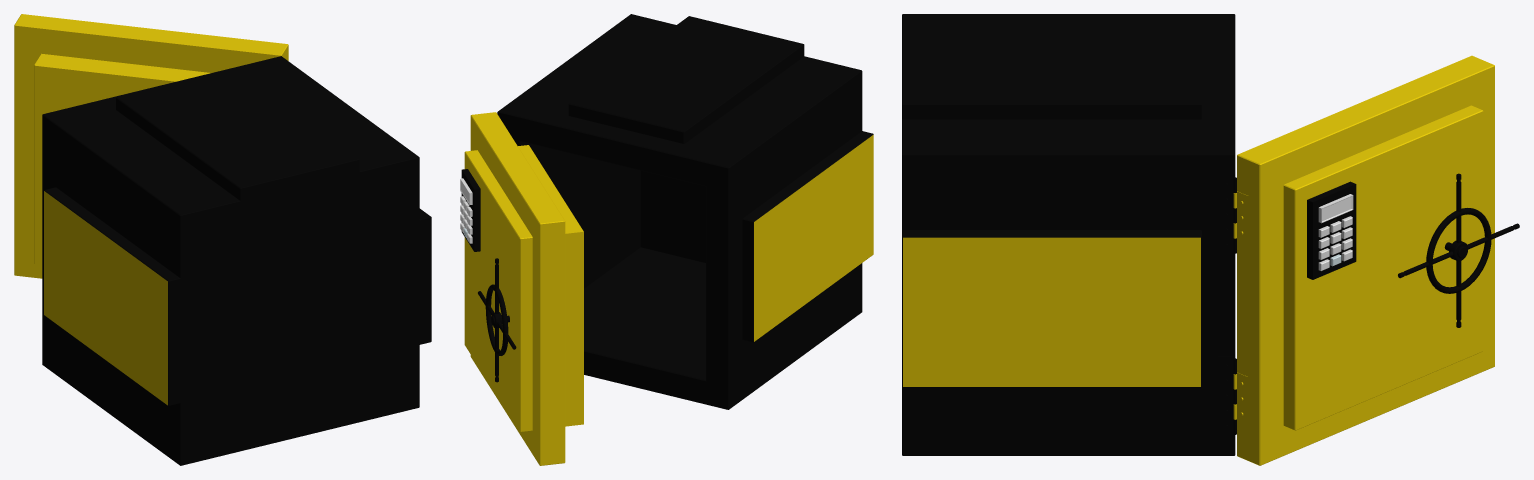
Rendered from PetesTVSafe.fbx.
3 views of the same model, side by side, from view 1: azimuth 30°, elevation 25°; view 2: azimuth 150°, elevation 25°; view 3: azimuth 270°, elevation 25° (orthographic). The views are drawn at different scales.
Visible parts, largest first — view 1: Box, Door, Box.001; view 2: Box, Door, Box.001, Lock, Password.013; view 3: Box, Door, Box.001, Lock, Password.013, Password.
Part boxes in pixels (box(x1,y1,x2,y2)): Box: box(42, 56, 431, 465); Door: box(14, 14, 288, 278); Box.001: box(44, 191, 167, 405); Box: box(497, 14, 873, 409); Door: box(464, 112, 583, 465); Box.001: box(754, 135, 873, 341); Lock: box(478, 258, 516, 382); Password.013: box(461, 169, 480, 251); Box: box(902, 14, 1236, 455); Door: box(1233, 55, 1494, 465); Box.001: box(903, 237, 1200, 386); Lock: box(1398, 173, 1519, 327); Password.013: box(1307, 181, 1356, 279); Password: box(1318, 194, 1353, 223).
Bounding box in the file's own units: 224 × 210 × 371.
